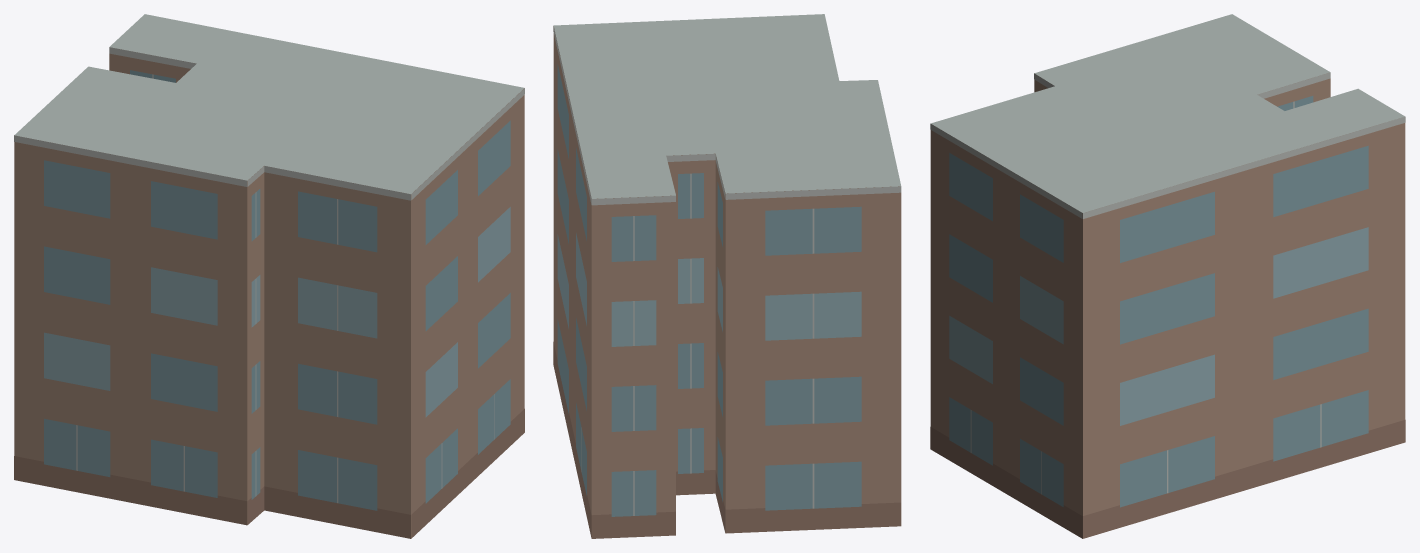
The model's file is survey-upis-32714571.glb.
3 views of the same model, side by side, from view 1: azimuth 30°, elevation 25°; view 2: azimuth 150°, elevation 25°; view 3: azimuth 270°, elevation 25° (orthographic). The views are drawn at different scales.
Visible parts, largest first — view 1: survey-upis-32714571.tmp; view 2: survey-upis-32714571.tmp; view 3: survey-upis-32714571.tmp.
Boxes of the visible parts, box(x1,y1,x2,y2) form: survey-upis-32714571.tmp: box(14, 14, 524, 538); survey-upis-32714571.tmp: box(553, 14, 901, 538); survey-upis-32714571.tmp: box(930, 14, 1405, 538).
Bounding box in the file's own units: 16.98 × 12.95 × 17.12.
